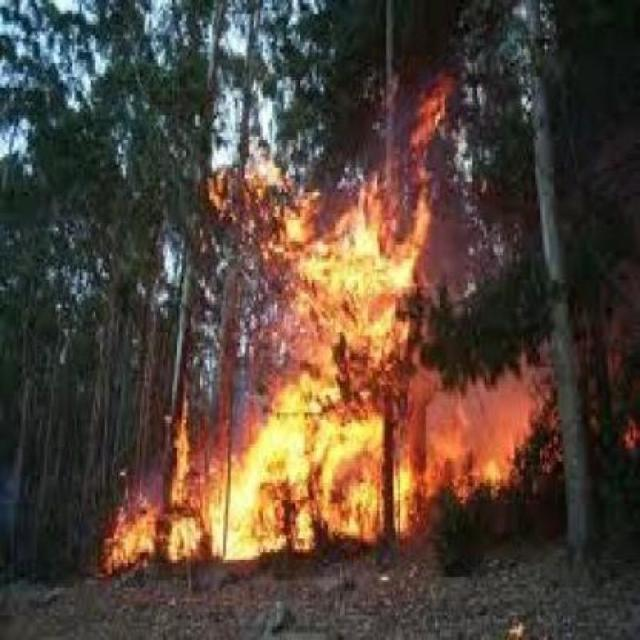Fire: (235, 96, 543, 574), (100, 371, 230, 586)
